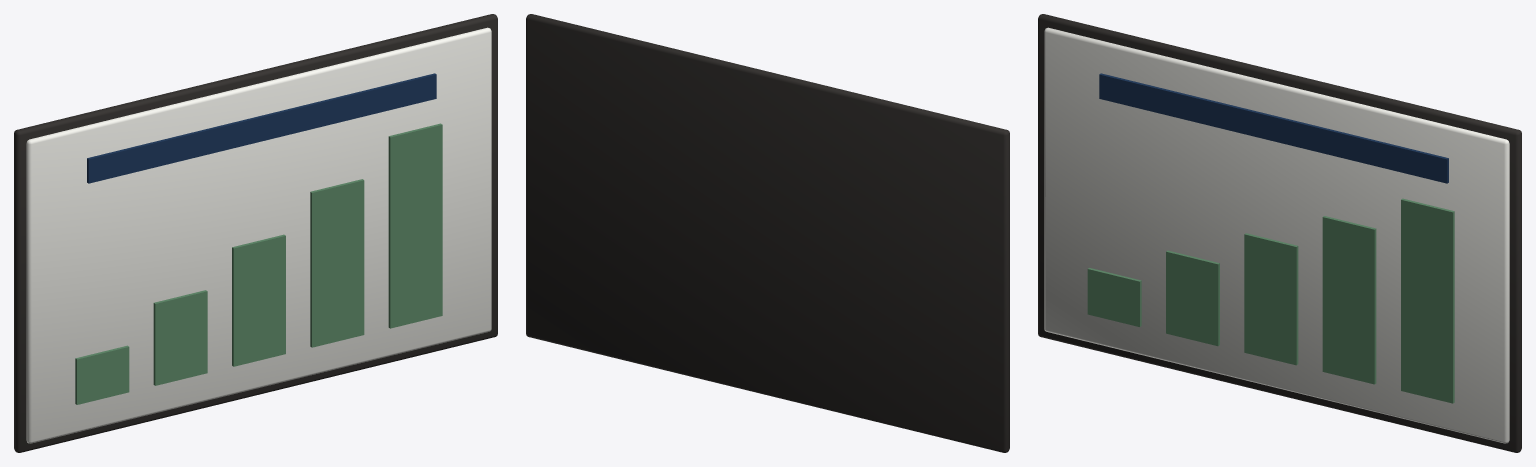
The model's file is board_quota.gltf.
3 views of the same model, side by side, from view 1: azimuth 30°, elevation 25°; view 2: azimuth 150°, elevation 25°; view 3: azimuth 330°, elevation 25° (orthographic).
Parts seen in each view (by area): view 1: board_quota_mesh; view 2: board_quota_mesh; view 3: board_quota_mesh.
Part boxes in pixels (left/top/right/bottom): board_quota_mesh: left=14, top=14, right=497, bottom=452; board_quota_mesh: left=526, top=14, right=1009, bottom=452; board_quota_mesh: left=1038, top=14, right=1521, bottom=452.
Bounding box in the file's own units: 1.66 × 1.06 × 0.055.
